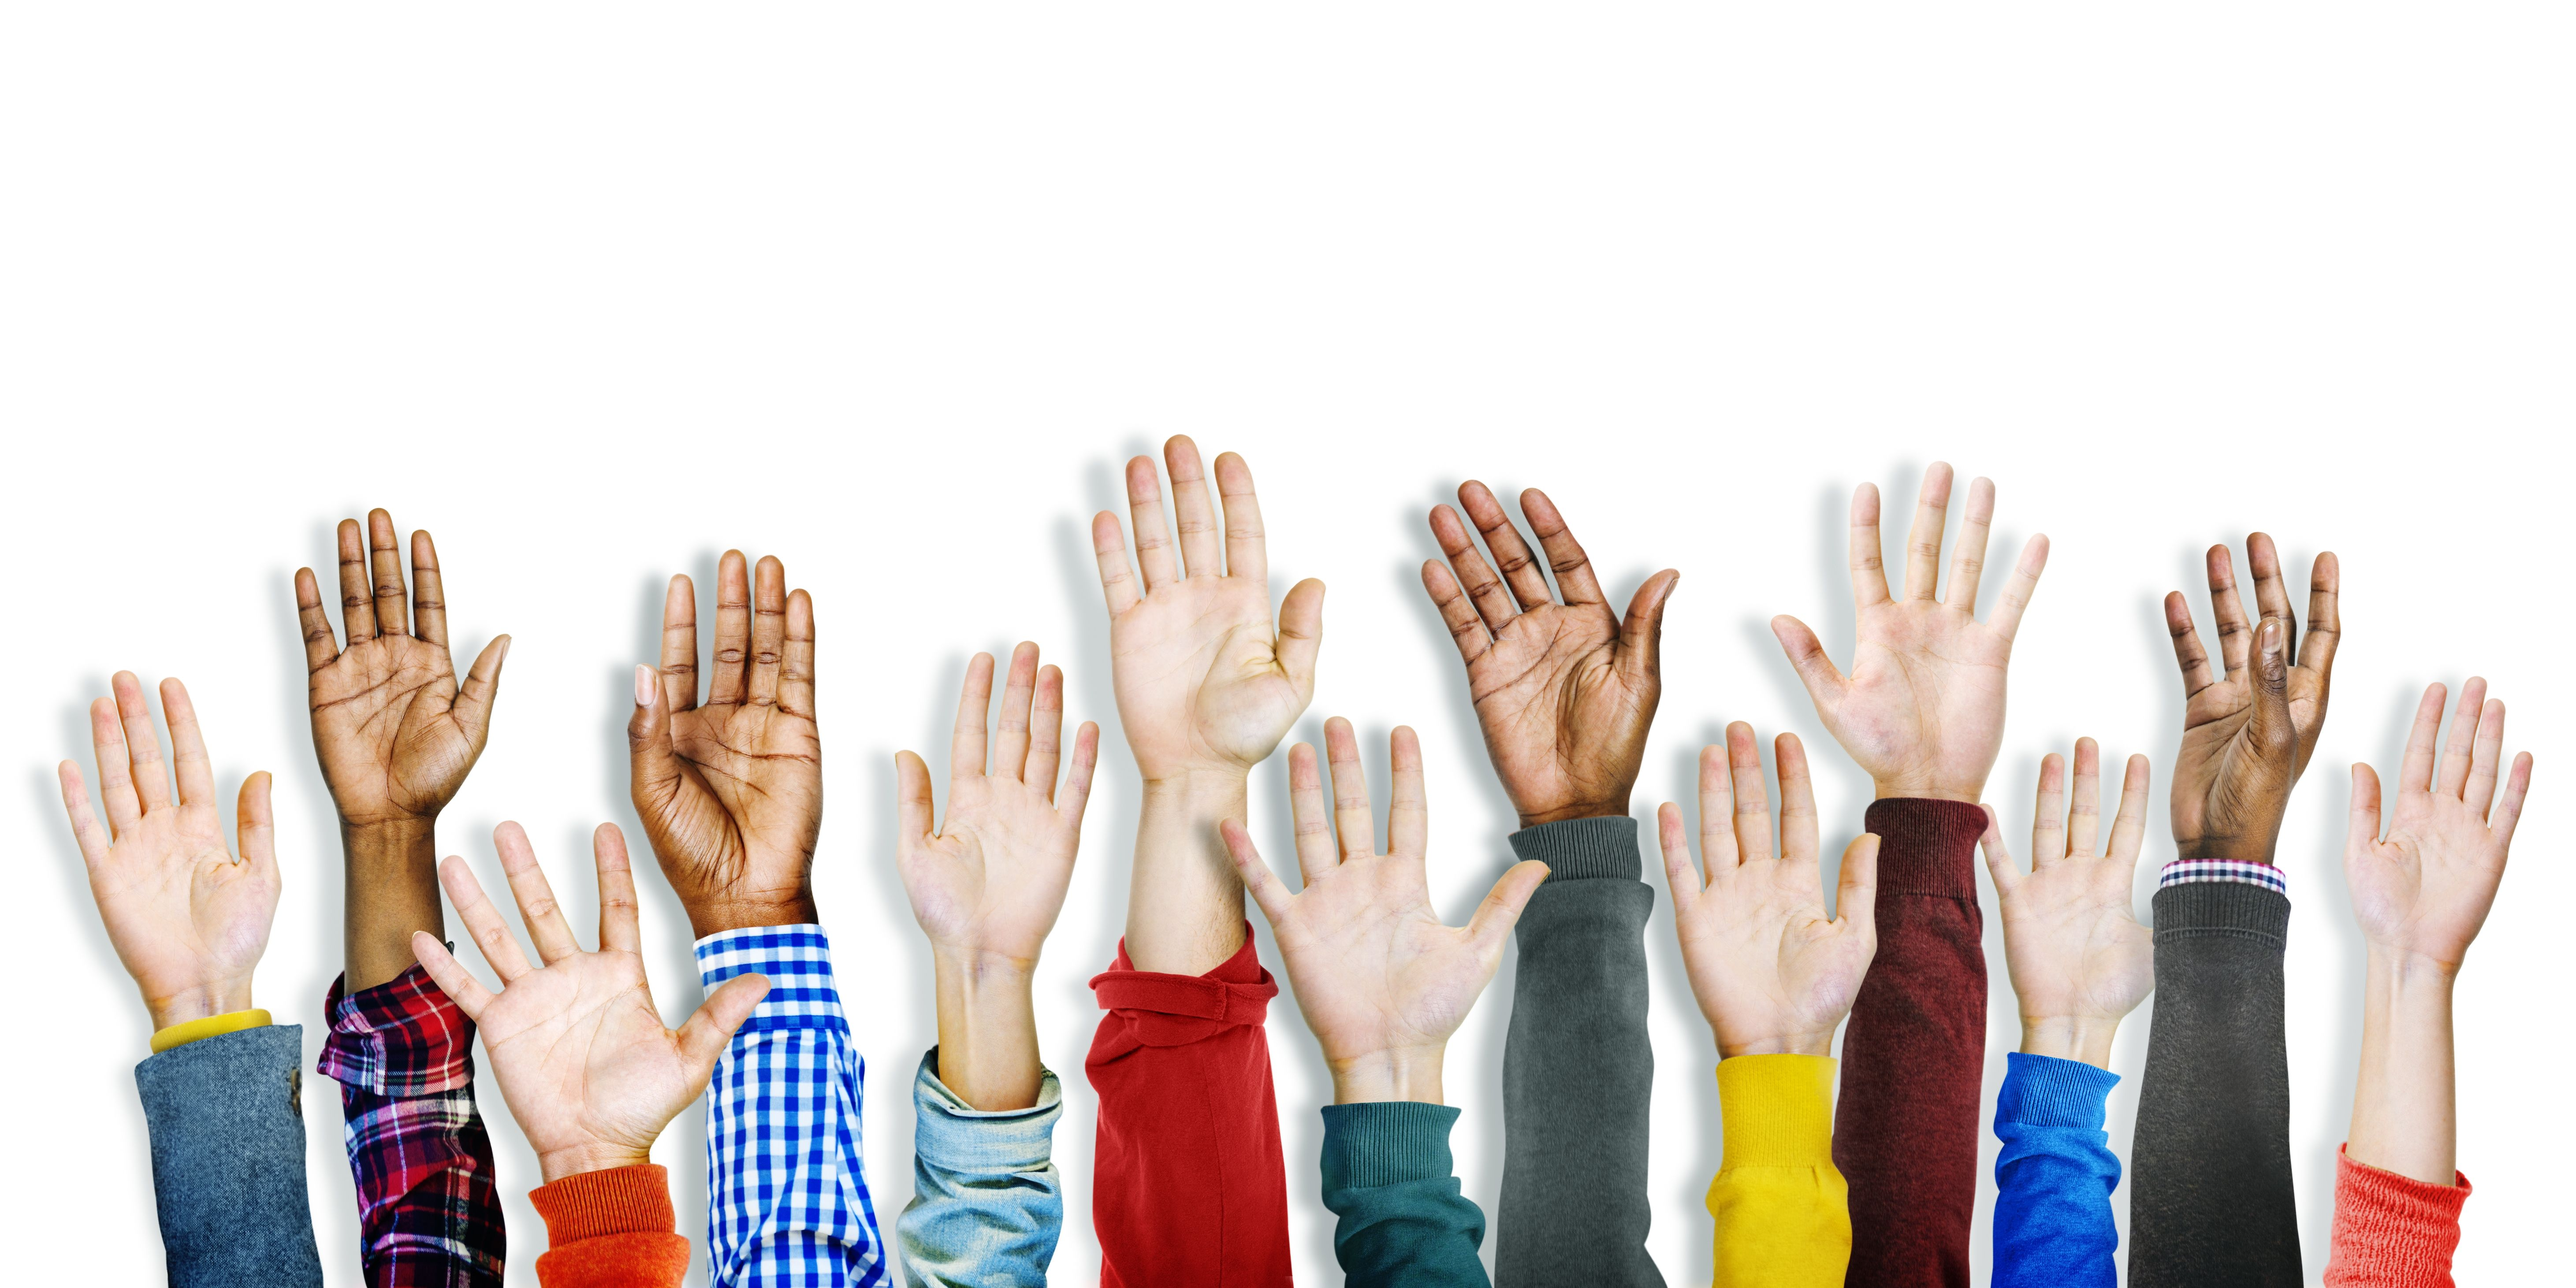no-phone: (399, 810, 774, 1155), (1212, 710, 1551, 1048), (1763, 450, 2055, 782), (1410, 476, 1684, 802), (1084, 425, 1327, 780), (41, 664, 289, 999), (1651, 721, 1889, 1048), (624, 544, 831, 912), (286, 498, 514, 831), (884, 636, 1106, 964), (1971, 734, 2187, 1033), (2152, 521, 2344, 851), (2331, 670, 2540, 968)
